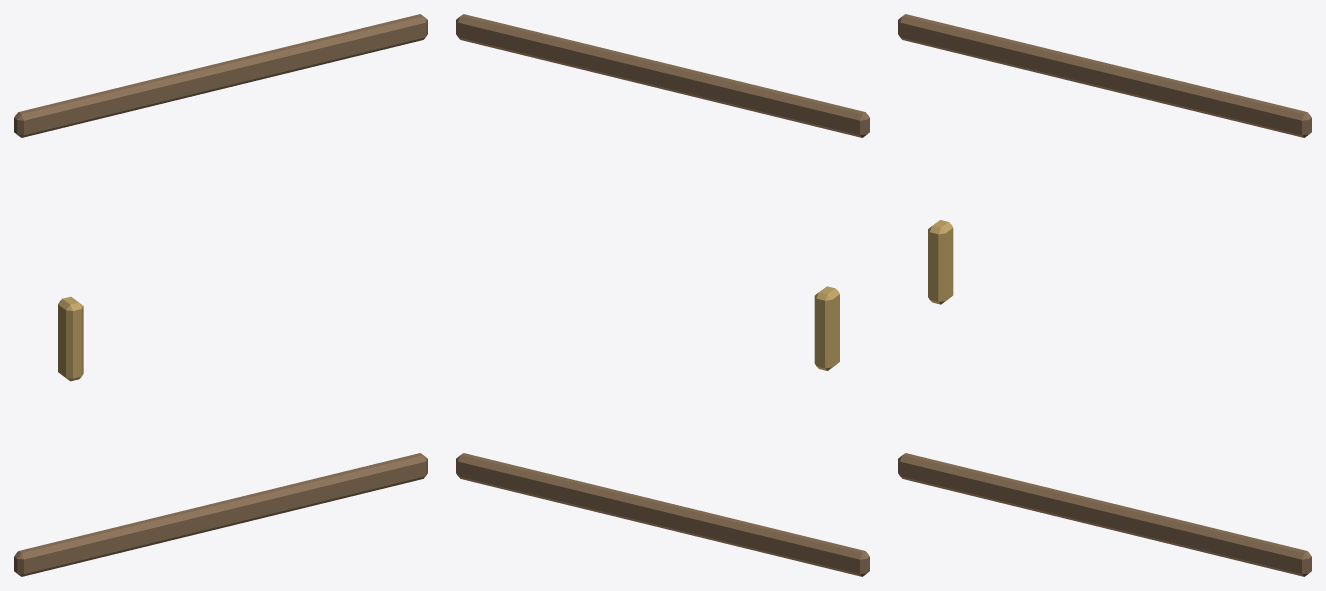
Rendered from wreck-cabin-door.glb.
The picture shows the model from 3 angles, left to right: view 1: azimuth 30°, elevation 25°; view 2: azimuth 150°, elevation 25°; view 3: azimuth 330°, elevation 25°; orthographic projection.
Parts seen in each view (by area): view 1: iron door strap, iron door strap.001, brass pull; view 2: iron door strap, iron door strap.001, brass pull; view 3: iron door strap, iron door strap.001, brass pull.
Part boxes in pixels (x1=…): iron door strap: x1=14, y1=453, x2=427, y2=576; iron door strap.001: x1=14, y1=14, x2=427, y2=137; brass pull: x1=58, y1=296, x2=83, y2=381; iron door strap: x1=456, y1=453, x2=869, y2=576; iron door strap.001: x1=456, y1=14, x2=869, y2=137; brass pull: x1=814, y1=286, x2=839, y2=370; iron door strap: x1=898, y1=453, x2=1311, y2=576; iron door strap.001: x1=898, y1=14, x2=1311, y2=137; brass pull: x1=928, y1=220, x2=953, y2=304.
Size of what is drawn, in the model's own units: 2.35 by 2.53 by 0.175.
